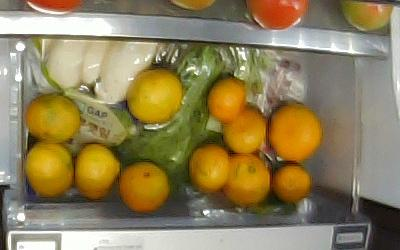tangerine: (126, 69, 182, 123), (268, 103, 321, 160), (25, 93, 80, 142), (120, 161, 169, 214), (24, 143, 73, 195), (74, 143, 119, 198), (222, 154, 269, 205), (223, 103, 265, 153), (187, 144, 229, 191), (206, 76, 245, 121), (272, 164, 310, 201)
